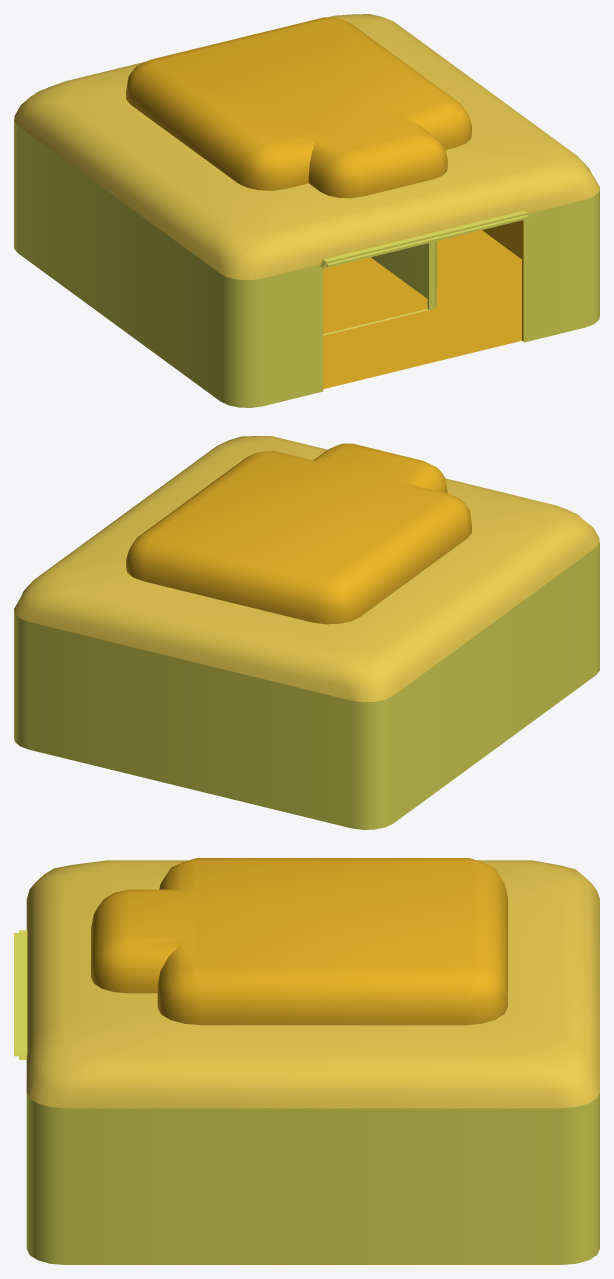
The model's file is Yellow-Bolge.fbx.
3 views of the same model, one above another, from view 1: azimuth 30°, elevation 25°; view 2: azimuth 150°, elevation 25°; view 3: azimuth 270°, elevation 25° (orthographic). The views are drawn at different scales.
Visible parts, largest first — view 1: Entry, Exit; view 2: Entry; view 3: Entry.
Part boxes in pixels (left/top/right/bottom): Entry: left=14, top=14, right=599, bottom=407; Exit: left=323, top=241, right=436, bottom=335; Entry: left=14, top=436, right=599, bottom=829; Entry: left=14, top=858, right=599, bottom=1264.
Bounding box in the file's own units: 10.79 × 5.33 × 11.88.
